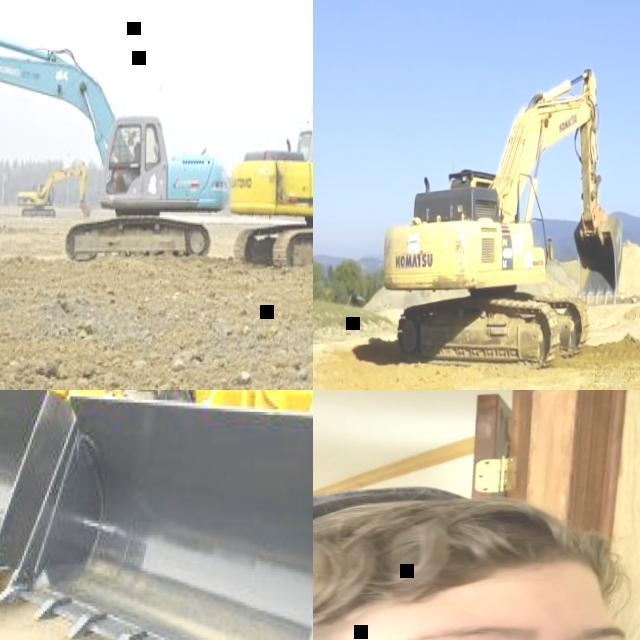NO-Hardhat: (313, 488, 620, 626)
Person: (313, 480, 640, 640), (129, 142, 140, 165)
machinery: (0, 390, 313, 640), (381, 61, 626, 370), (0, 390, 266, 634), (0, 15, 231, 264), (231, 2, 313, 283), (16, 161, 92, 219)
